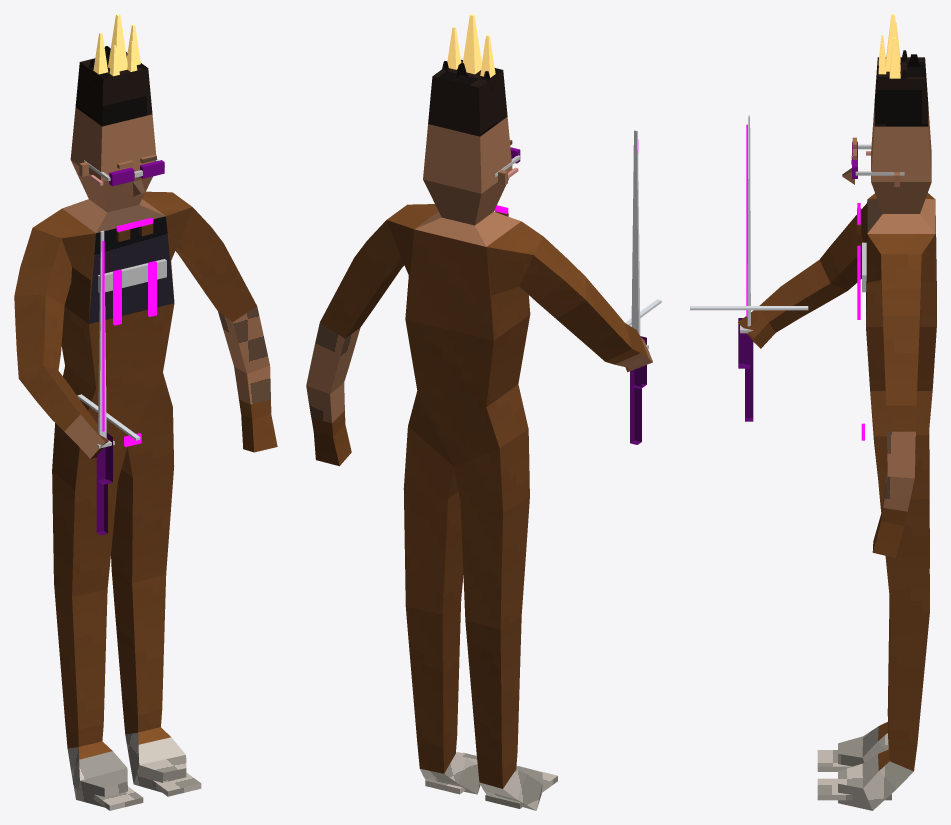
Rendered from oyabaun_rival.glb.
3 renders of one model, left to right at view 1: azimuth 30°, elevation 25°; view 2: azimuth 150°, elevation 25°; view 3: azimuth 270°, elevation 25°, orthographic. The views are drawn at different scales.
Parts seen in each view (by area): view 1: RivalCharacter; view 2: RivalCharacter; view 3: RivalCharacter.
Part boxes in pixels (bbox=[...]): RivalCharacter: bbox=[14, 14, 277, 810]; RivalCharacter: bbox=[306, 14, 661, 810]; RivalCharacter: bbox=[690, 14, 936, 810].
Size of the model in its own units: 0.7629 by 2.01 by 0.584.
12 materials, 5 textured.
